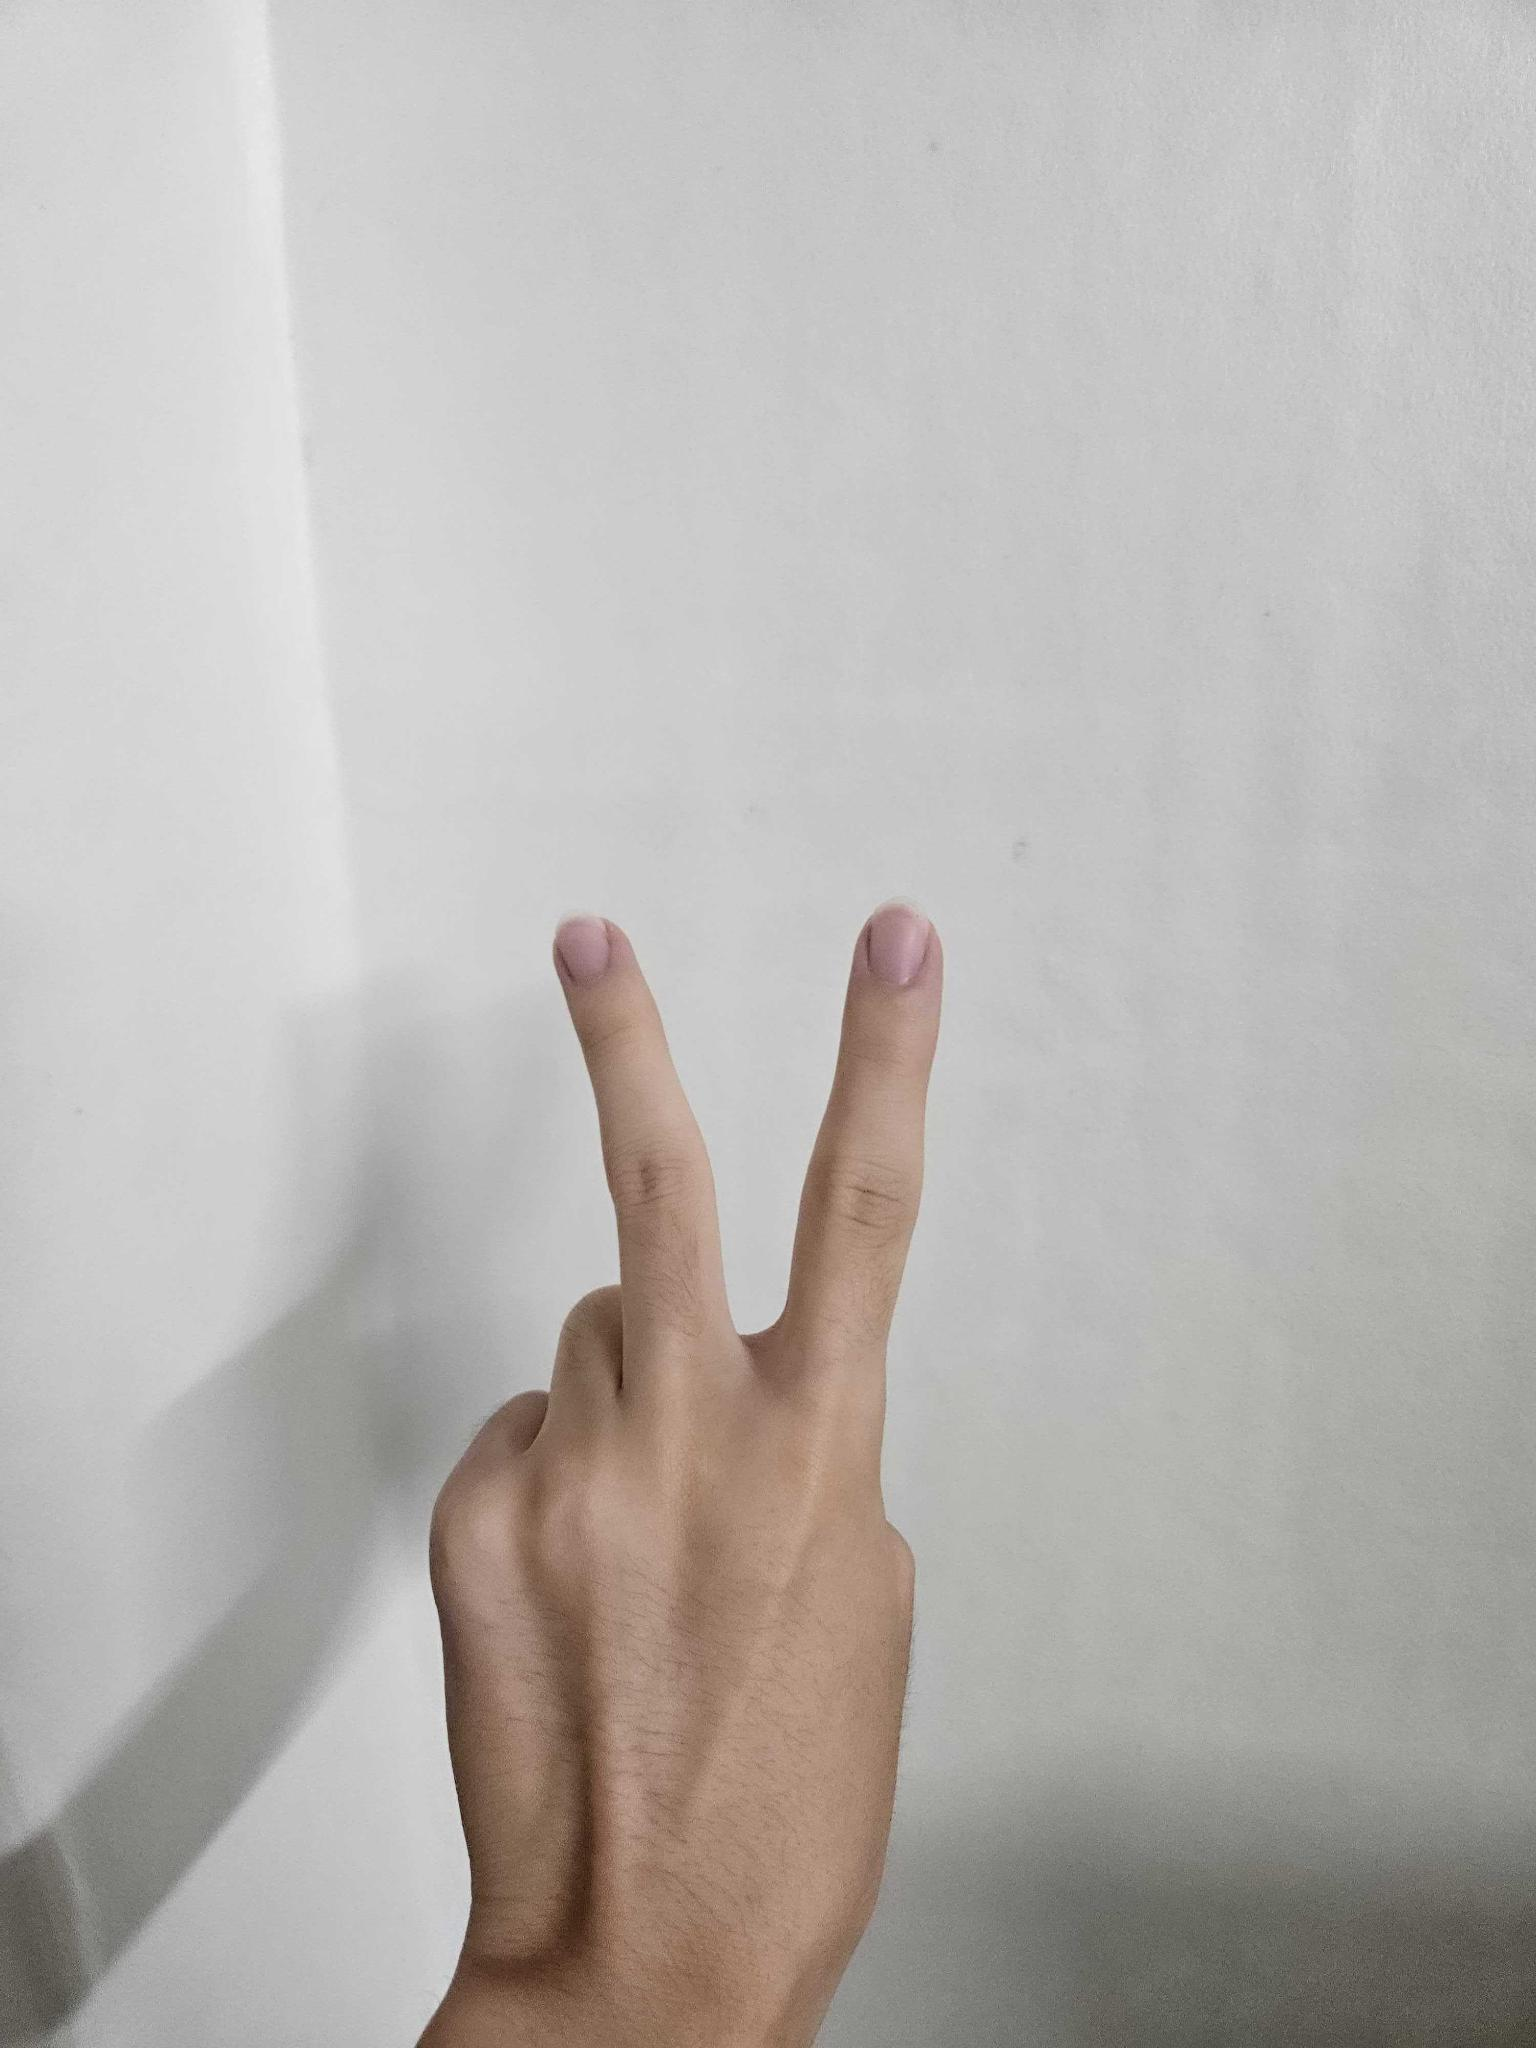v: (411, 893, 952, 2048)
